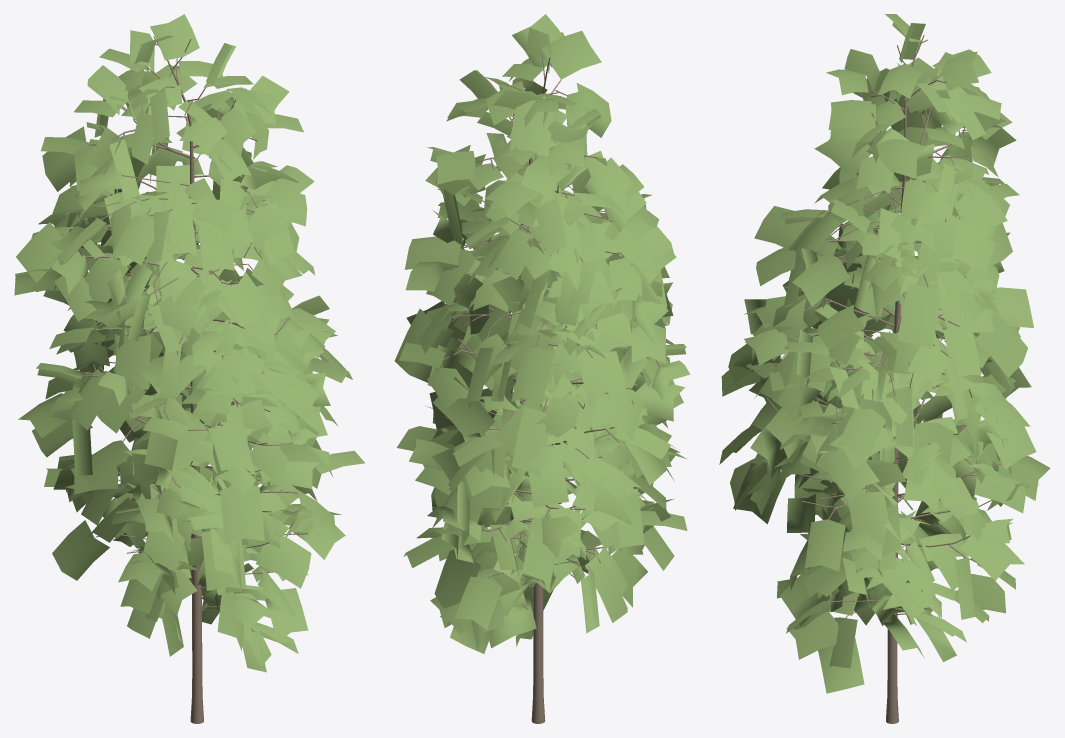
Rendered from Birch_11_young_lod0.glb.
3 views of the same model, side by side, from view 1: azimuth 30°, elevation 25°; view 2: azimuth 150°, elevation 25°; view 3: azimuth 270°, elevation 25° (orthographic).
Visible parts, largest first — view 1: Birch_11_young_lod0; view 2: Birch_11_young_lod0; view 3: Birch_11_young_lod0.
Boxes of the visible parts, x1,y1,x2,y2 form: Birch_11_young_lod0: [14, 14, 364, 723]; Birch_11_young_lod0: [394, 14, 690, 723]; Birch_11_young_lod0: [719, 14, 1050, 723].
Bounding box in the file's own units: 4.23 × 9.31 × 4.04.
